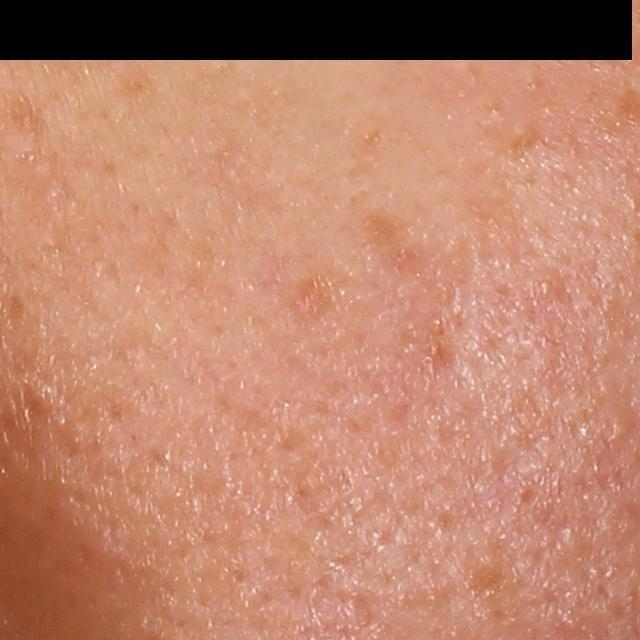melasma: (356, 210, 411, 255), (507, 123, 542, 155)
